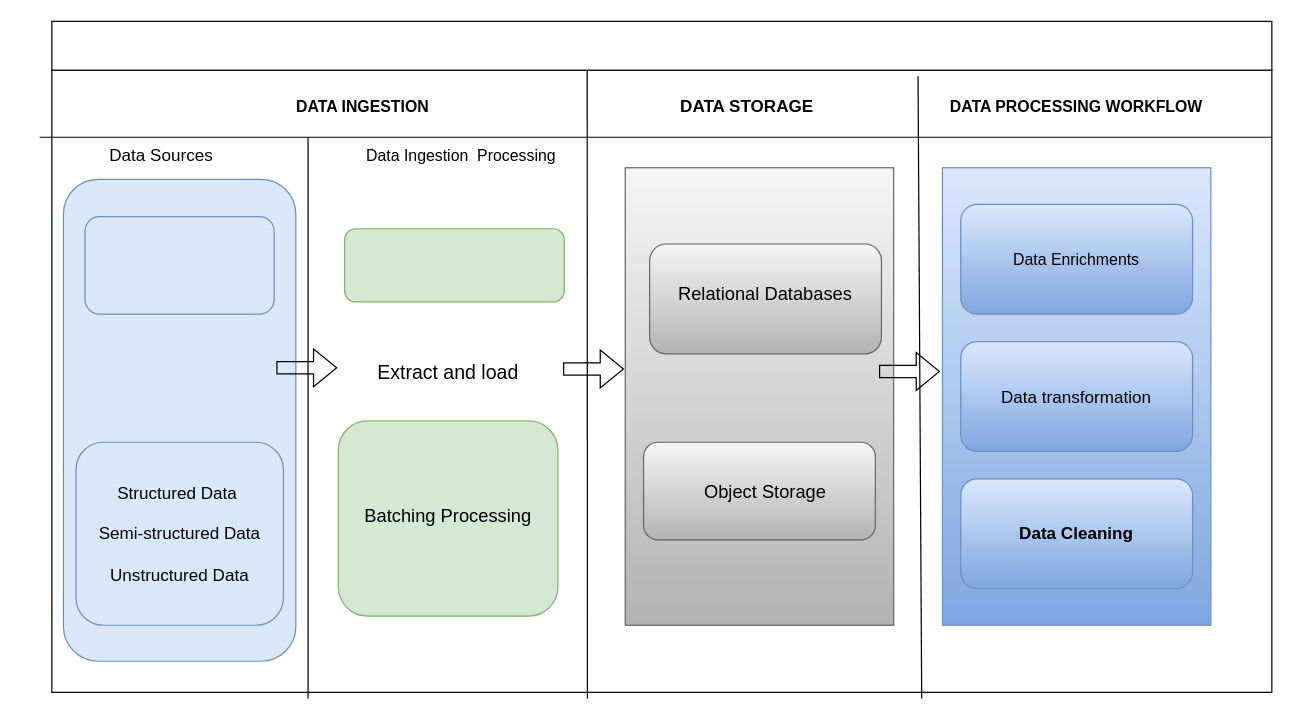
This 1294x722 diagram has some shape labels left out. The shapes that lost their labels are listed below. From the top down, each one's centre as x and y in pixels, then its label:
At (x=661, y=45): "DATA LAKE ARCHITECTURE".
At (x=179, y=264): "Streaming Data".
At (x=453, y=265): "Streaming Processing".
